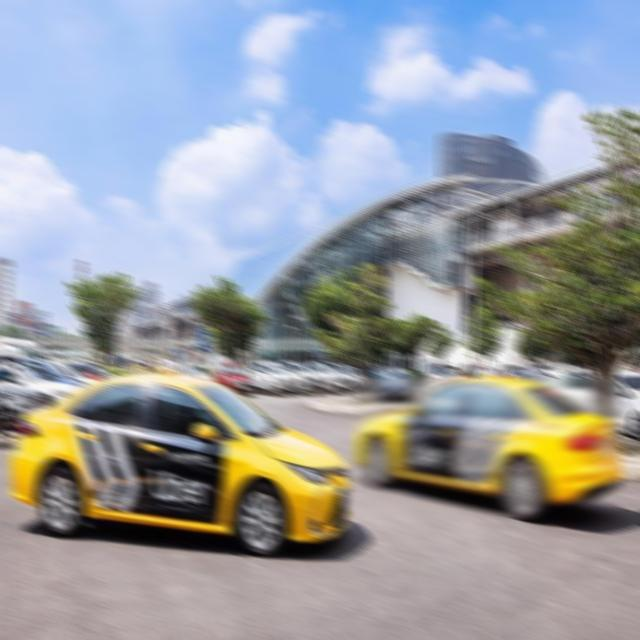Door: (354, 377, 623, 518)
Taxi: (9, 375, 351, 554)
